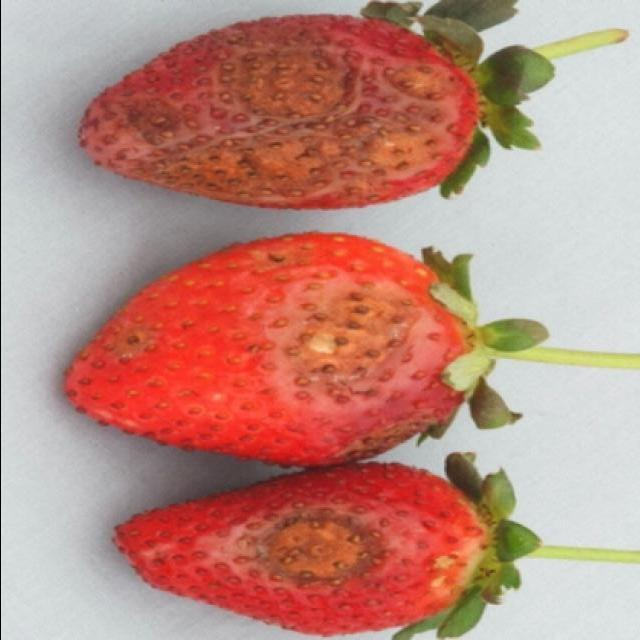Anthracnose Fruit Rot: (76, 14, 479, 210), (105, 241, 450, 464), (110, 461, 512, 637)
